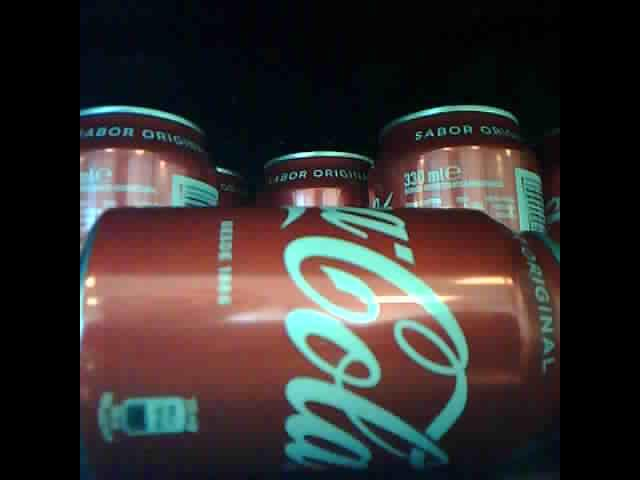coca cola: (78, 206, 562, 476), (79, 101, 236, 253), (377, 102, 548, 237), (251, 147, 374, 213)
